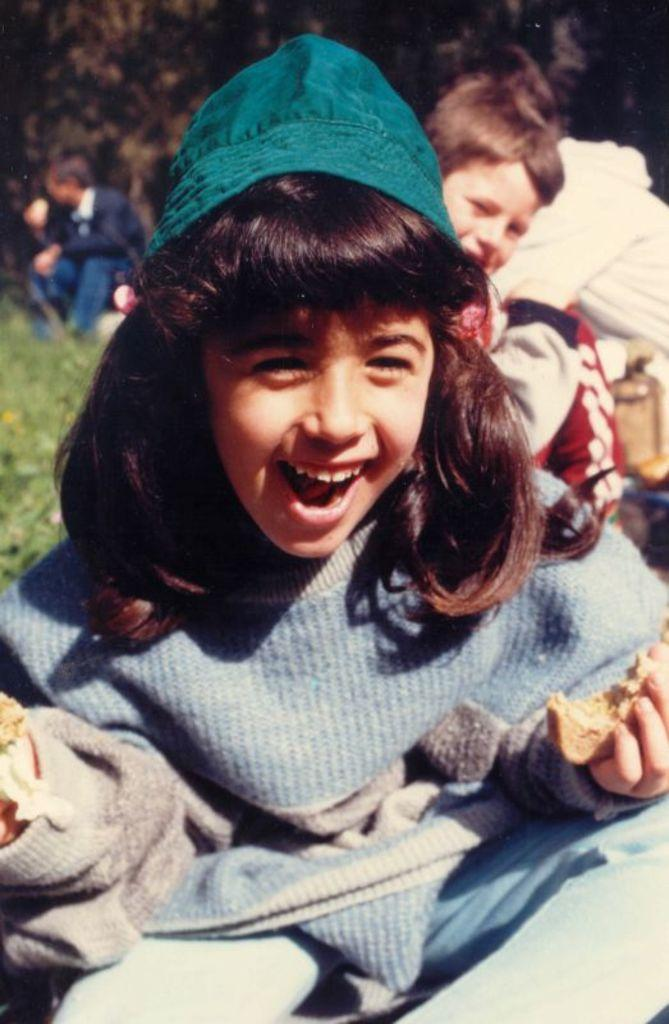Hat: (140, 32, 467, 270)
